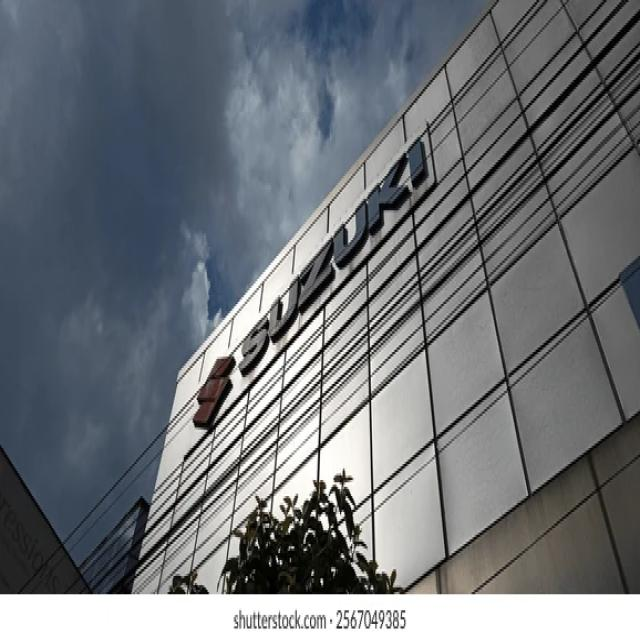suzuki: (196, 357, 236, 425)
